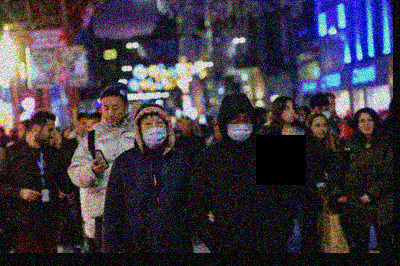with_mask: (141, 116, 169, 147), (226, 112, 254, 141)
without_mask: (101, 101, 124, 123), (36, 124, 55, 146), (281, 102, 296, 124), (311, 119, 329, 137), (358, 115, 375, 134), (181, 118, 192, 133)
